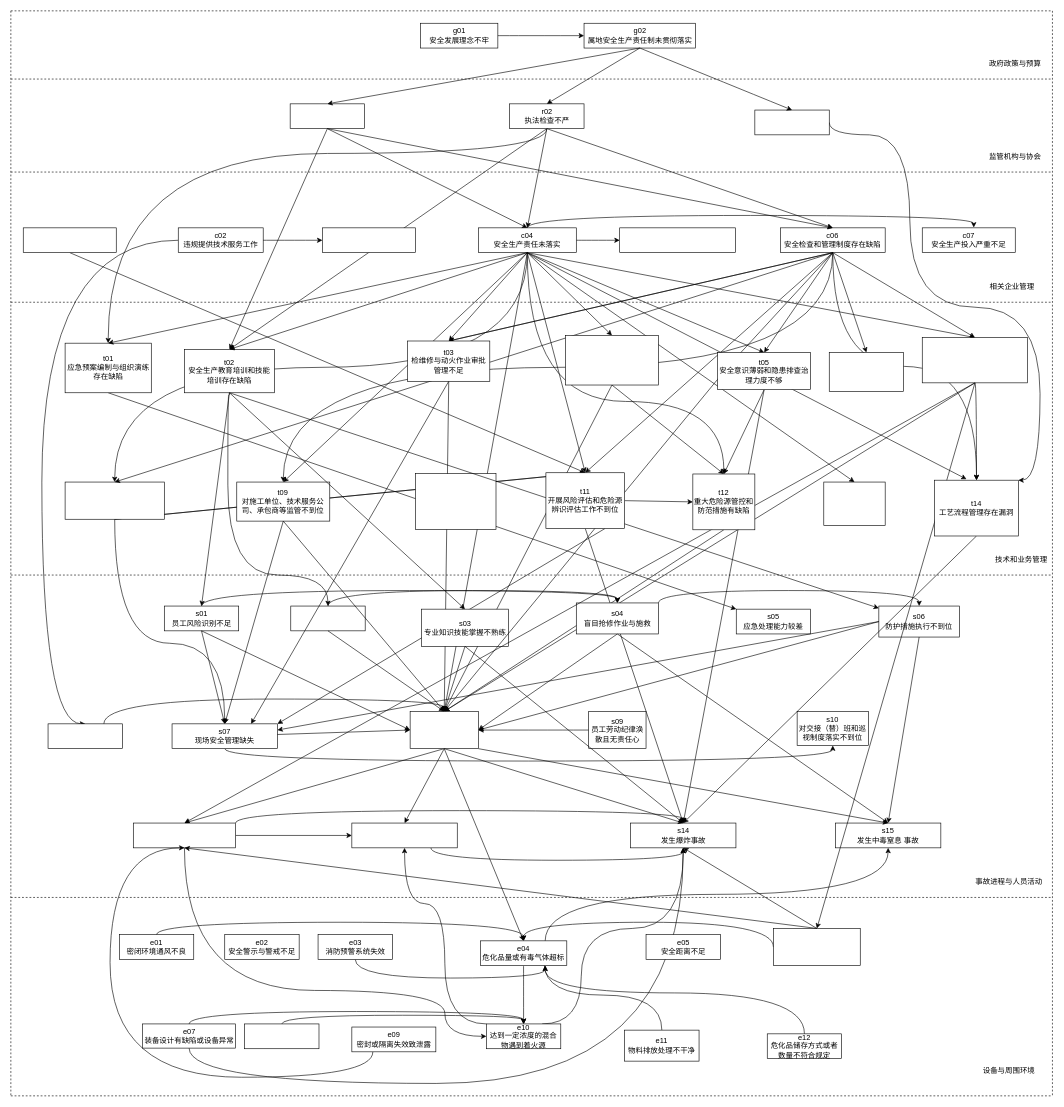
Some shapes in this 1064 by 1107 pixel diagram are drawn without their labels. The shapes that lost their labels are listed below. From the top down, each one's centre as x and y in pixels, then its label:
At [327,116]: "r01 安全监管不力".
At [791,122]: "r03 违规审批许可".
At [69,240]: "c01 违规出具虚假安全评价报告".
At [368,240]: "c03 施工质量或设备设计未达标".
At [677,240]: "c05 对所属企业安全生产监督指导不力".
At [611,360]: "t04 未按规定逐步完善修订并落实操作规程".
At [866,372]: "t06 事故整改措施不落实".
At [975,360]: "t07 设备巡查与管理漏洞严重".
At [114,500]: "t08 施工方案和技术交底不完善".
At [455,501]: "t10 物资采购管理存在漏洞".
At [854,503]: "t13 违反建设项目安全设施“三同时”规定".
At [327,618]: "s02 员工安全意识较差".
At [84,736]: "s11 员工不具备从业资格".
At [444,730]: "s08 作业未履行职责或遵守规程和安全协议".
At [184,835]: "s12 发生泄露事故".
At [404,835]: "s13 发生火灾事故".
At [816,947]: "e06 管道损坏或失效致泄露".
At [281,1036]: "e08 防爆工具或电器不符合要求".
